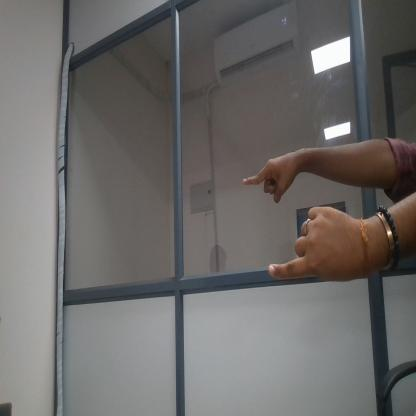Right: (265, 204, 348, 278), (241, 148, 301, 198)
